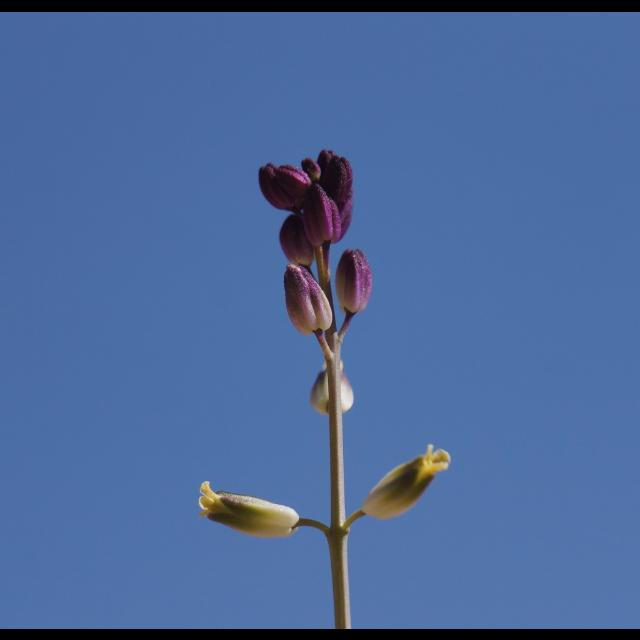Flower: (255, 136, 390, 412), (361, 442, 449, 520), (198, 477, 296, 535)
